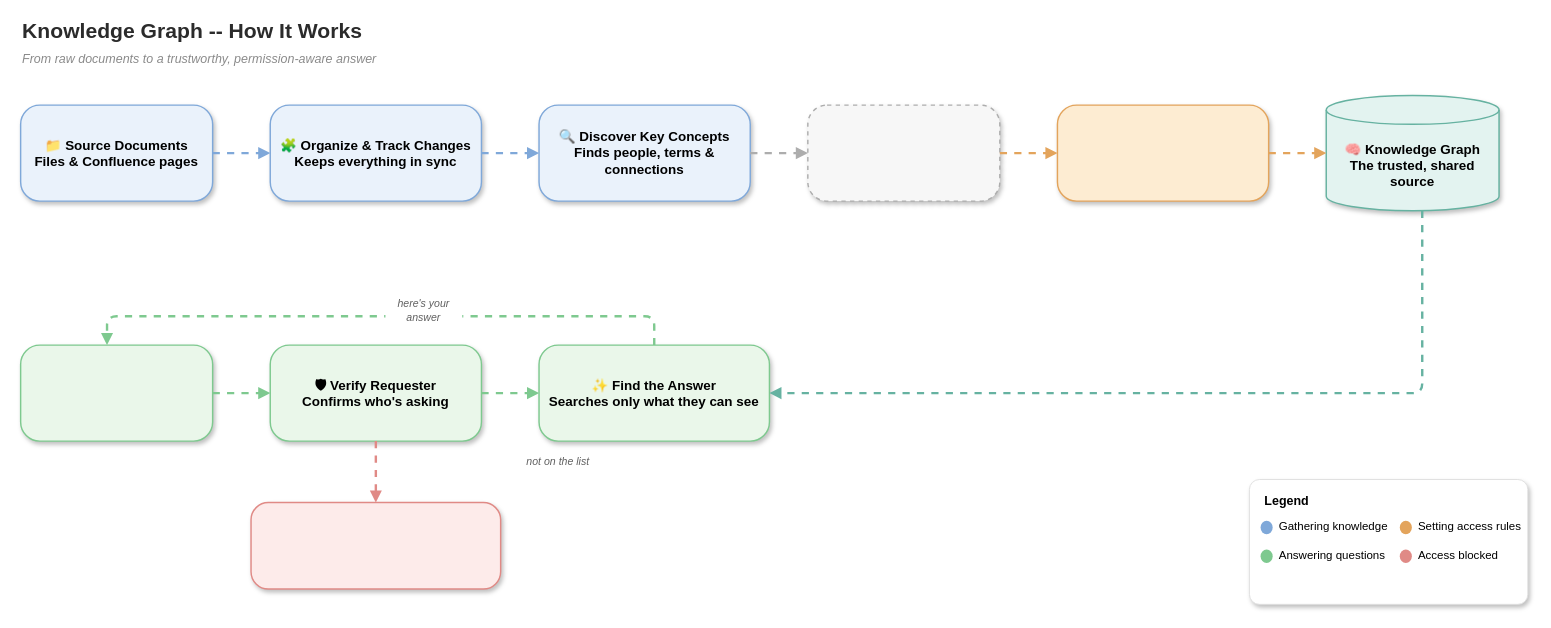
This 1551x628 diagram has some shape labels left out. Here are the shapes that lost their labels. From the top down, the centre of each, then its label:
[904,154]: 👀 Human Review A person checks the results
[1163,154]: 🔒 Approve
[117,394]: 💬 Ask a Question From the chat app
[376,547]: 🚫 Access Denied Not allowed to see that
